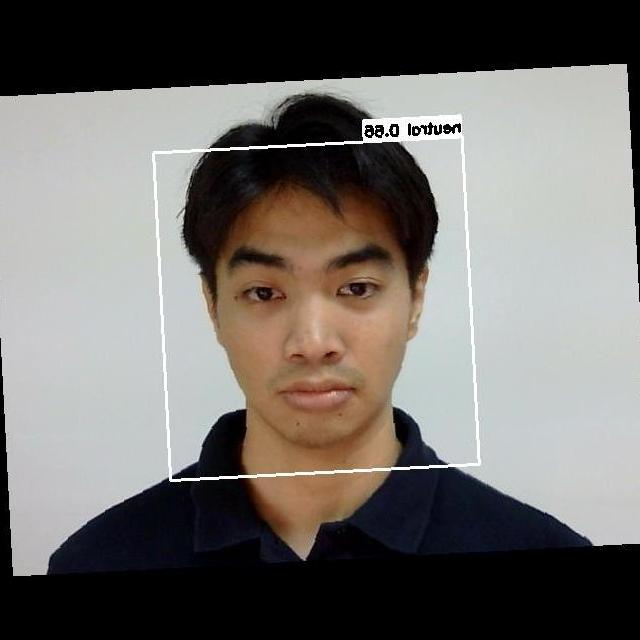Fear: (205, 211, 415, 421)
